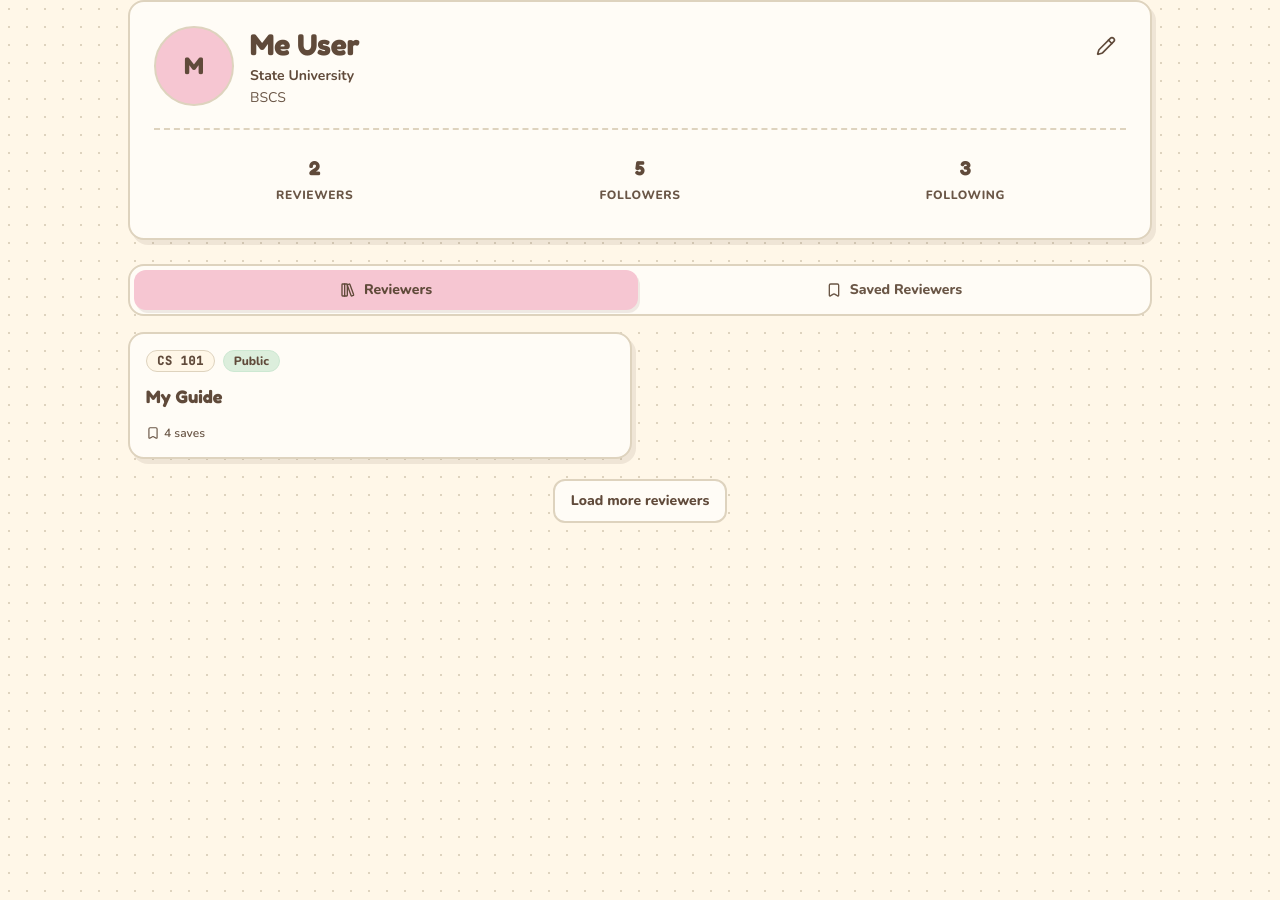
Test case: Profile › loads more saved reviewers
This screenshot has width=1280, height=900.
Expected: the text "My Guide" is shown, [146,385,222,407]
Click the tab "Saved Reviewers".
click(894, 290)  # box [642,270,1146,310]
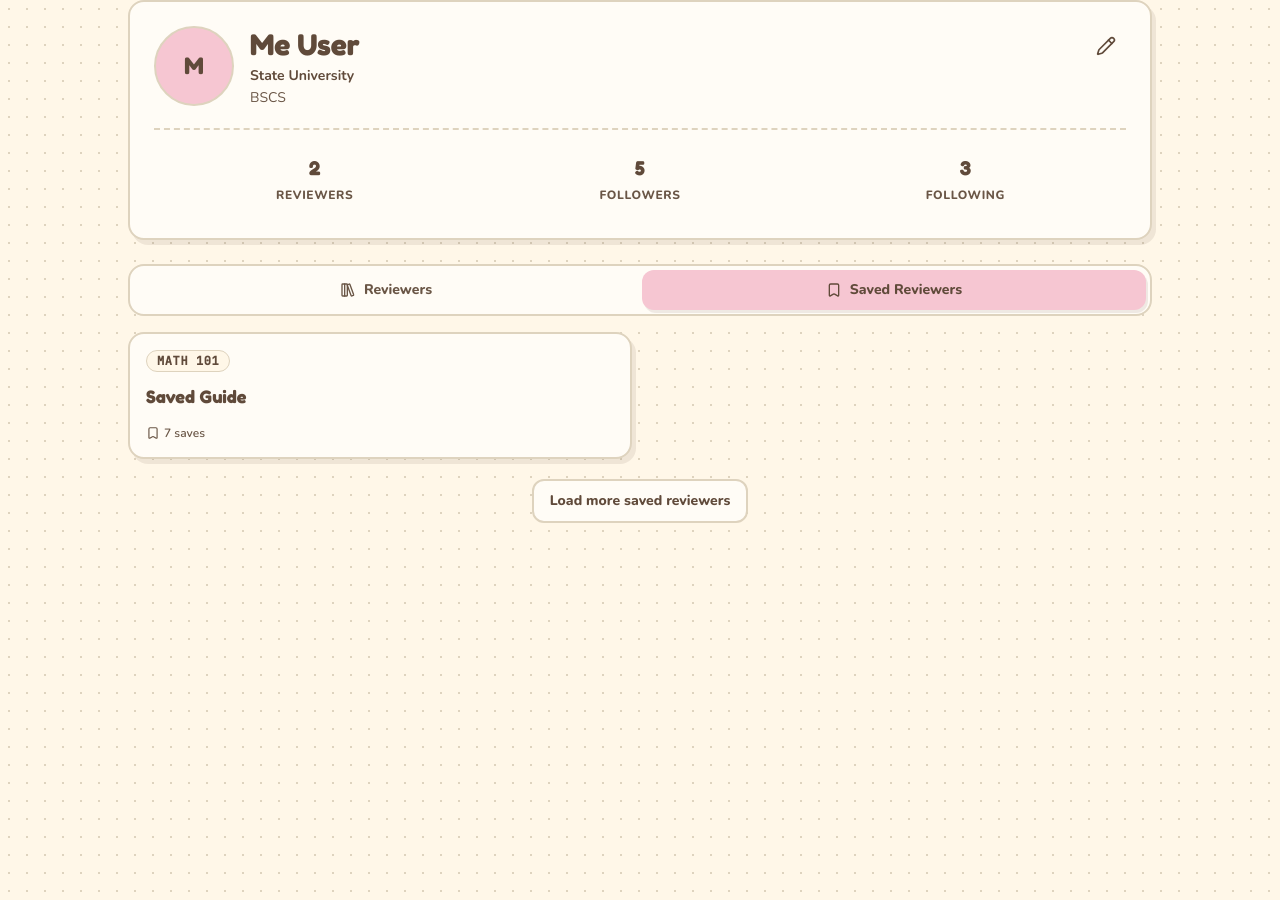
Expected: the text "Saved Guide" is shown, [146,385,246,407]
Click the button "Load more saved reviewers".
click(640, 501)  # box [532,479,748,523]
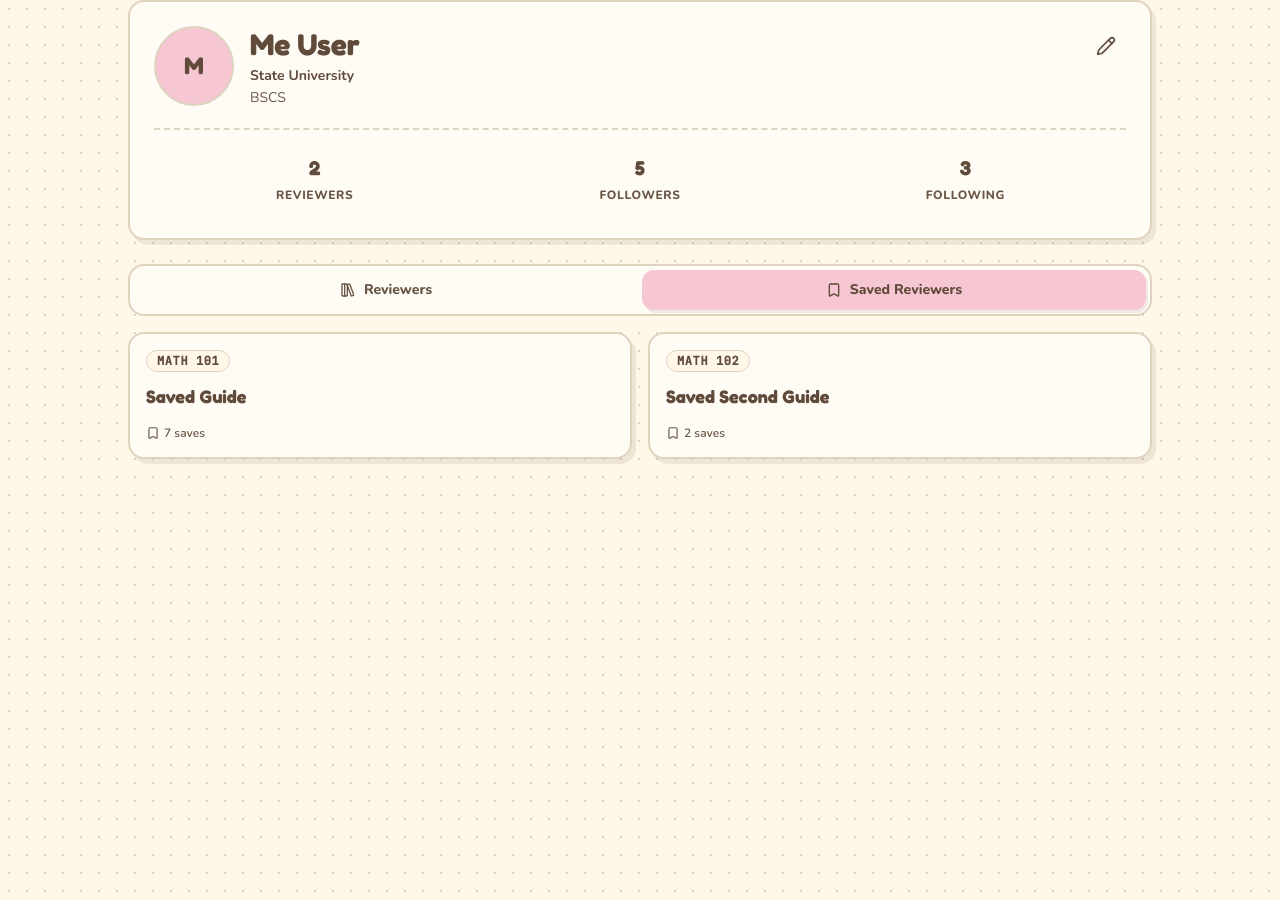
Expected: the text "Saved Second Guide" is shown, [666,385,829,407]
Expected: the button "Load more saved reviewers" is gone
